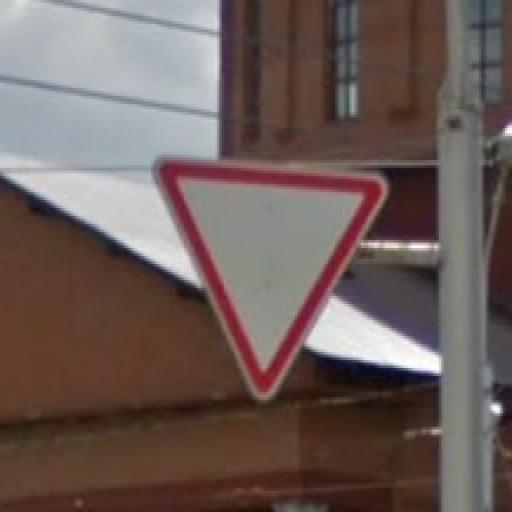traffic_sign: (147, 153, 395, 409)
